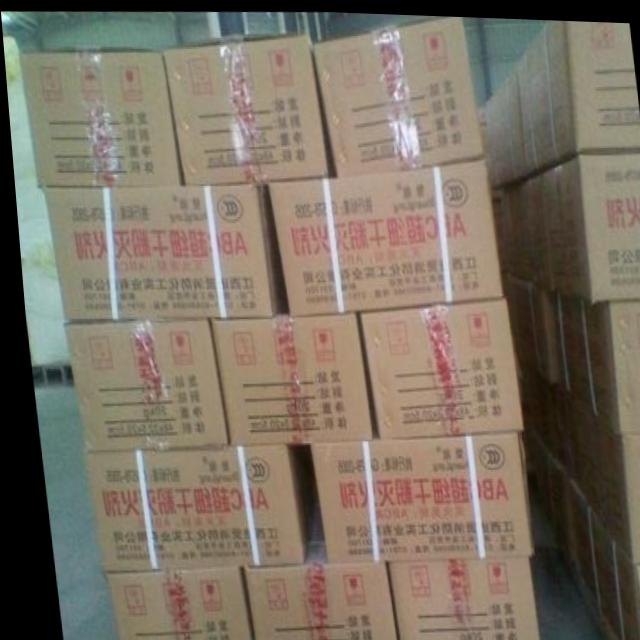box: (263, 151, 498, 311), (39, 182, 285, 324), (75, 443, 306, 573), (303, 428, 523, 561), (308, 13, 480, 172), (162, 33, 324, 186), (351, 295, 517, 435), (232, 492, 386, 640), (18, 48, 180, 188), (204, 309, 370, 441), (61, 317, 220, 447), (515, 16, 640, 169), (524, 146, 640, 295), (377, 549, 528, 640), (562, 387, 640, 559), (546, 287, 640, 429), (563, 474, 640, 640), (95, 561, 241, 640), (517, 419, 570, 569), (509, 352, 567, 476), (484, 167, 539, 286), (497, 267, 551, 380), (476, 54, 521, 180)
